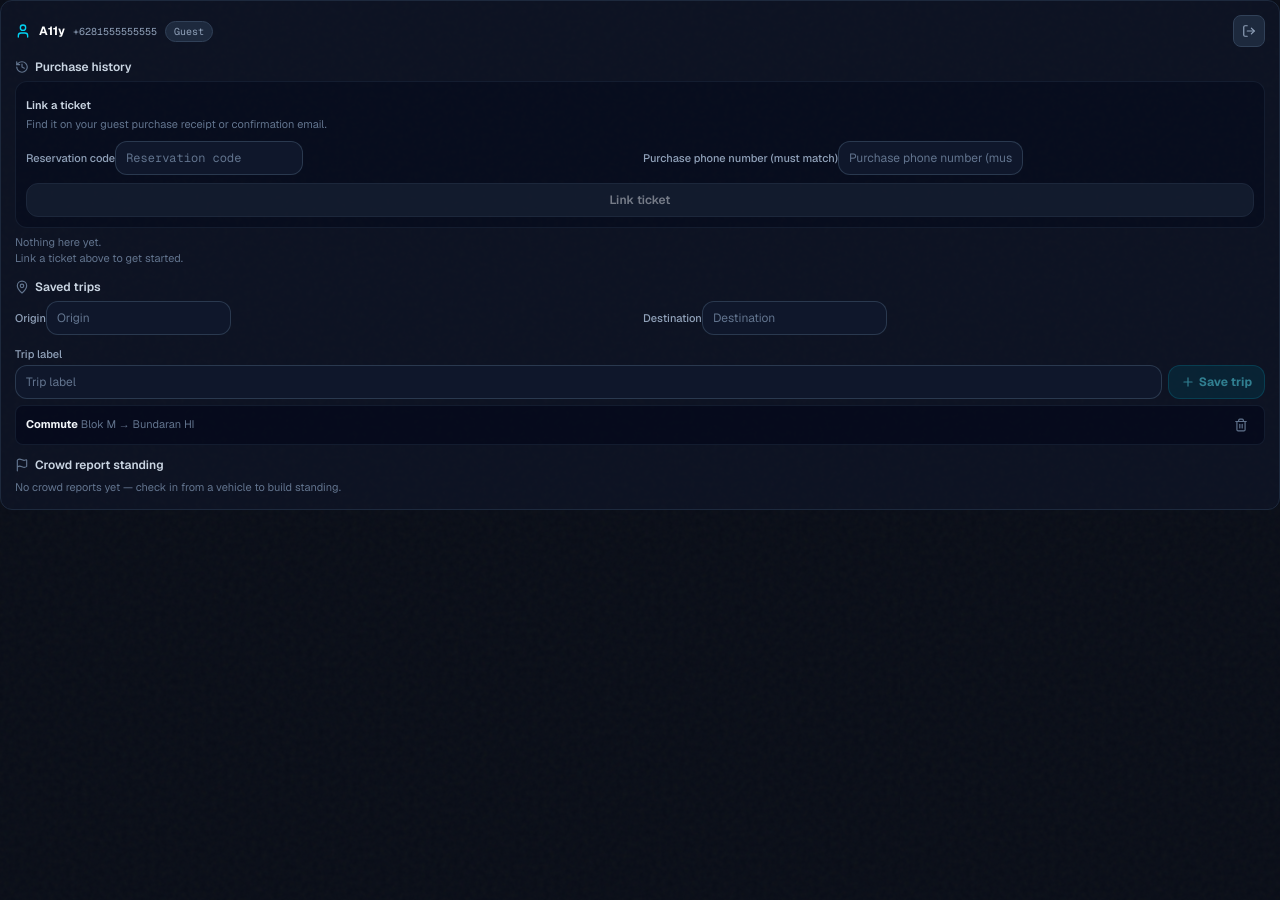
account panel a11y › announces failures through a live region
The image size is (1280, 900).
Expected: the text "Purchase history" is shown, [15,59,132,75]
Type "NOPE01" into the field labelled "Reservation code". click: [209, 158]
box: [115,140,303,174]
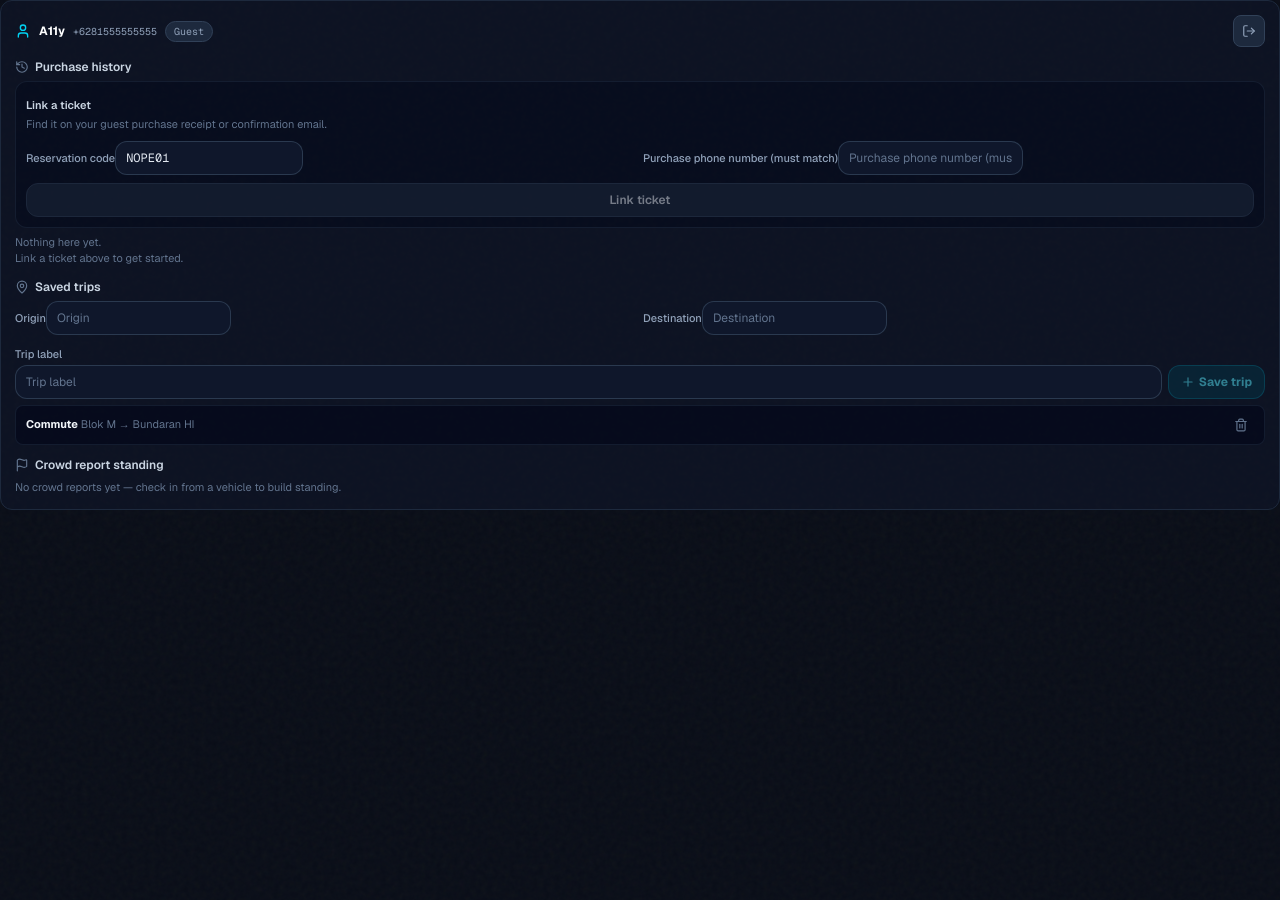
Type "+628100000001" into the field labelled "Purchase phone number (must match)". click: [930, 158]
box: [838,140,1023,174]
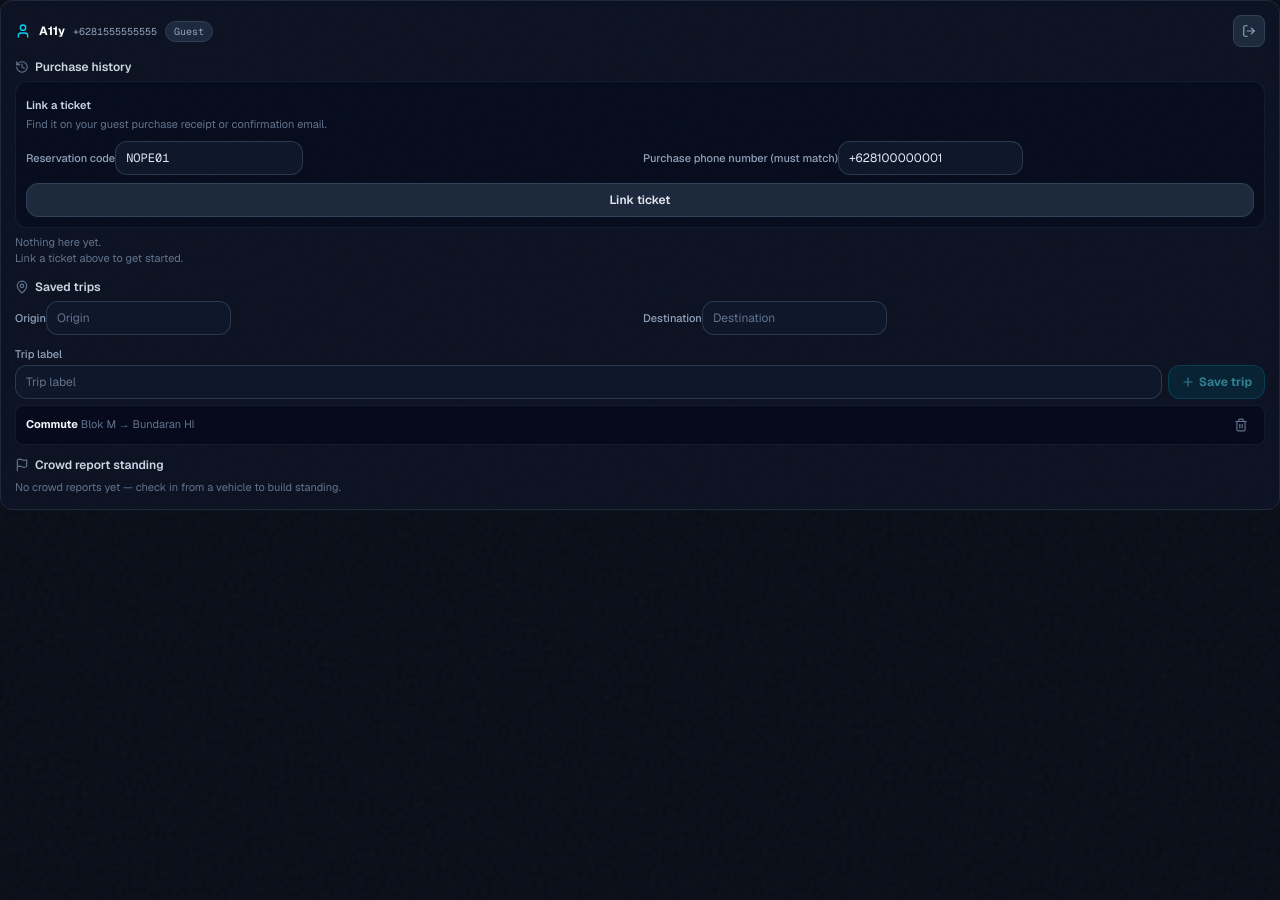
Click the button "Link ticket". click: [640, 200]
box: [26,182,1254,216]
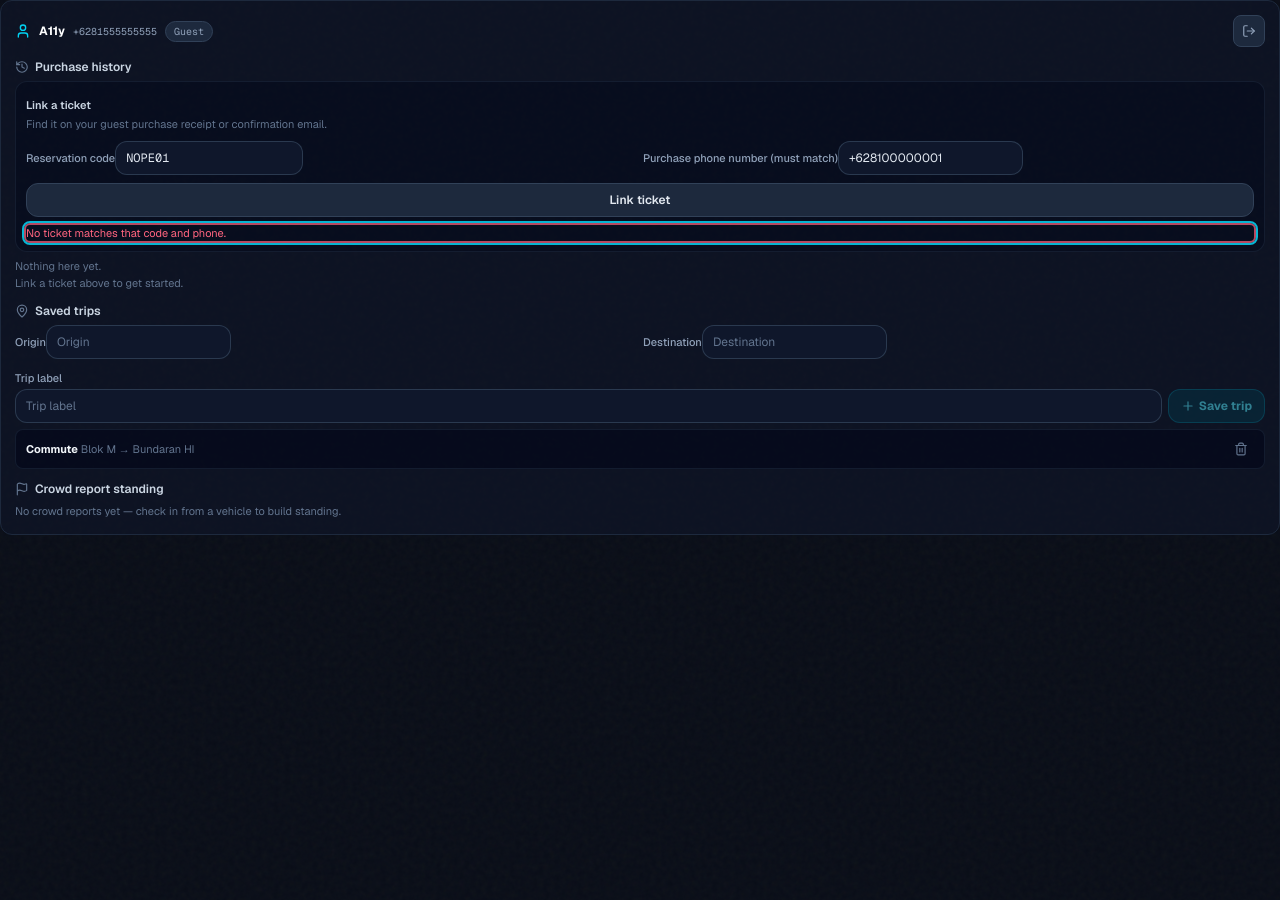
Now the message shows "No ticket matches", box [26,226,226,240]
